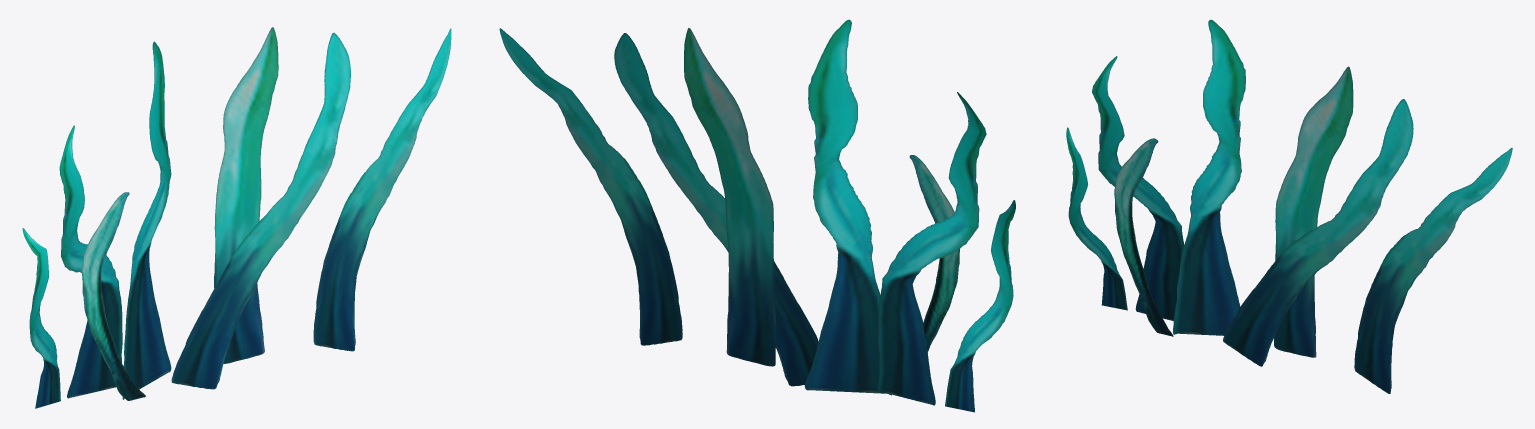
Rendered from Sea_haicao02.FBX.
The picture shows the model from 3 angles, left to right: view 1: azimuth 30°, elevation 25°; view 2: azimuth 150°, elevation 25°; view 3: azimuth 330°, elevation 25°; orthographic projection. The views are drawn at different scales.
Parts seen in each view (by area): view 1: haicao02; view 2: haicao02; view 3: haicao02.
Boxes of the visible parts, left/top/right/bottom form: haicao02: left=22, top=27, right=451, bottom=408; haicao02: left=499, top=19, right=1015, bottom=412; haicao02: left=1066, top=19, right=1512, bottom=393.
Size of the model in its own units: 119 by 91.48 by 15.42.
